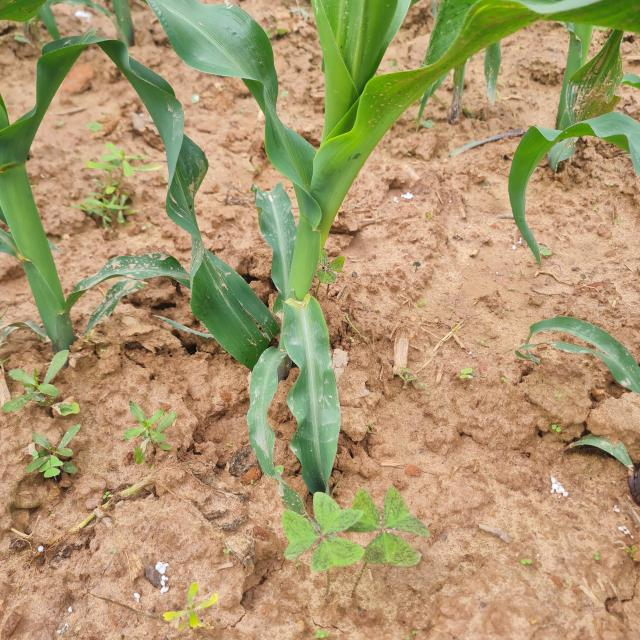maize: (175, 0, 422, 477), (0, 60, 157, 372), (474, 0, 640, 215), (501, 298, 640, 473)
weed: (248, 473, 466, 560)
